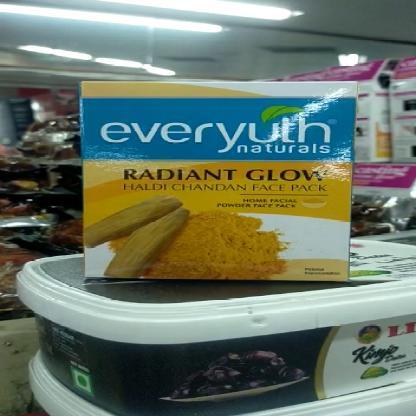EY HALDICHANDAN FP HF POWDER 25G: (84, 82, 349, 282)
